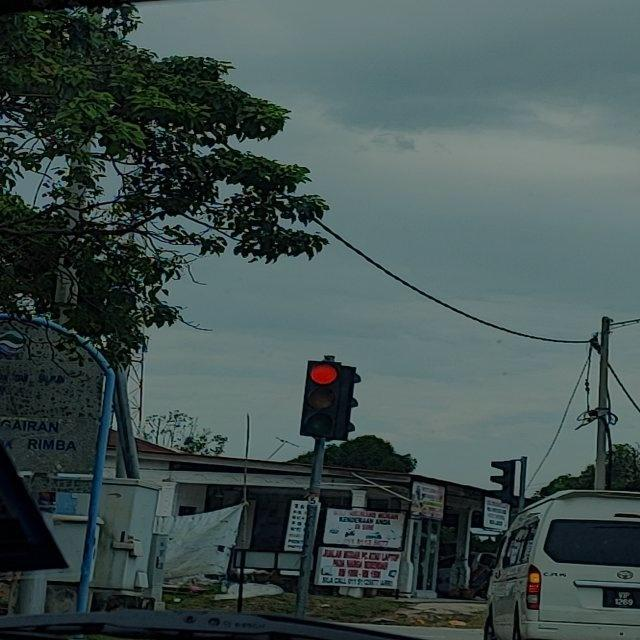Red: (300, 360, 344, 437)
